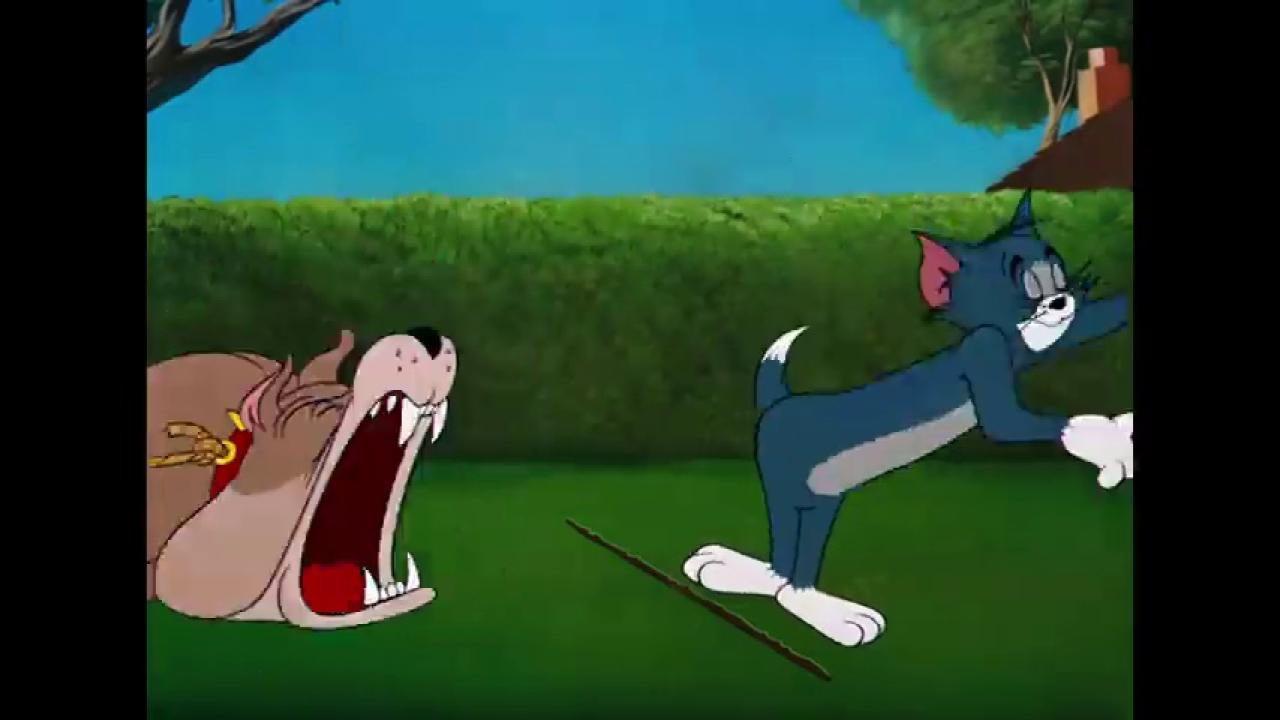Tom: (682, 185, 1133, 652)
